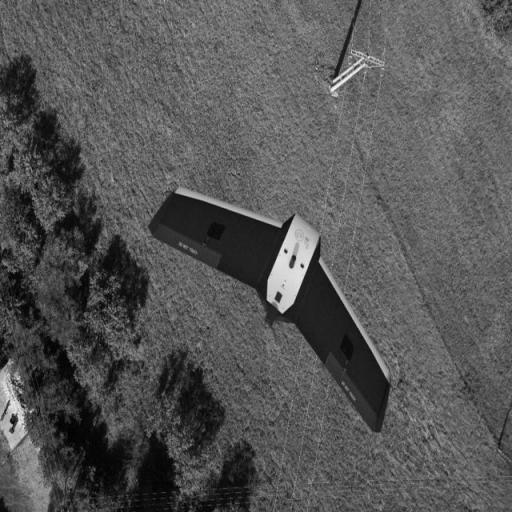uav: (144, 168, 404, 444)
